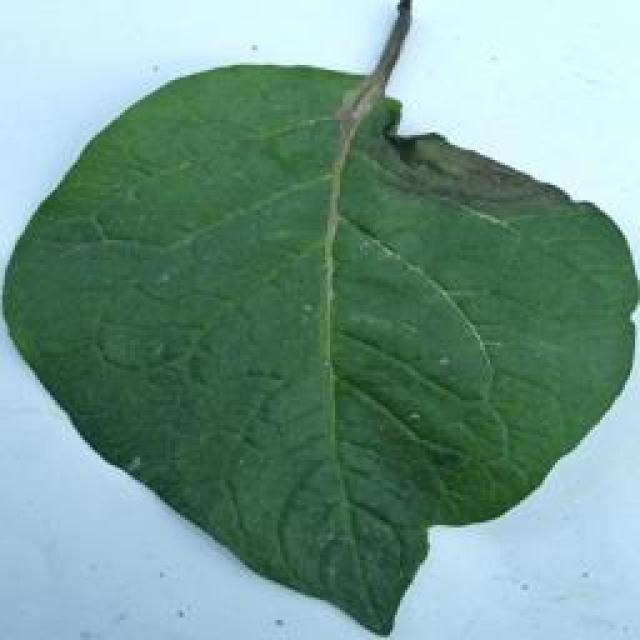Potato_Late_Blight: (5, 45, 625, 634)
